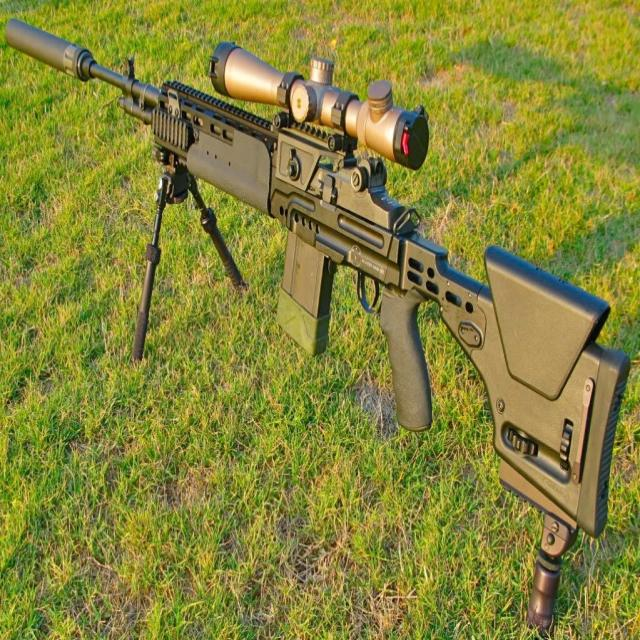firearm: (2, 11, 630, 640)
